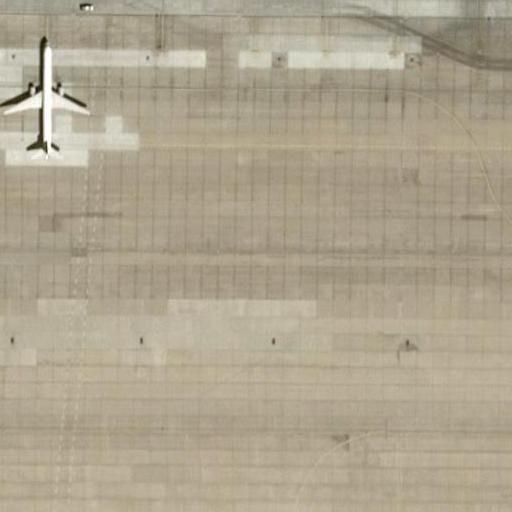Aircraft: (0, 30, 89, 163)
